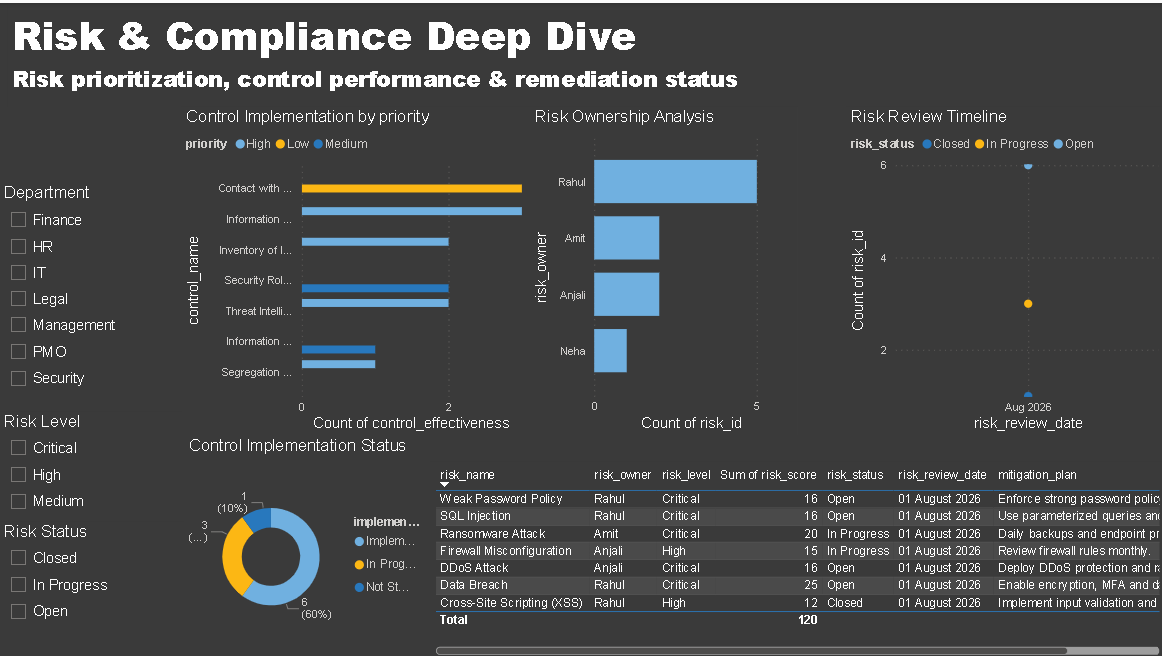

This screenshot's page, from the dashboard's own definition file:
{"tool":"powerbi","page":{"name":"Risk & compliance Deep Dive","canvas":[1280,720],"ordinal":2},"visuals":[{"type":"textbox","box":[9.5,0,1270.7,113.9],"z":0},{"type":"slicer","title":"Department","fields":{"Values":["Dim_Department.department_name"]},"box":[0,197.6,203.1,251.1],"z":1000},{"type":"slicer","title":"Risk Level","fields":{"Values":["Fact_Risk_Register.risk_level"]},"box":[0,448.7,203.1,150.9],"z":2000},{"type":"slicer","title":"Risk Status","fields":{"Values":["Fact_Risk_Register.risk_status"]},"box":[0,569.5,203.1,150.9],"z":3000},{"type":"clusteredBarChart","title":"Risk Ownership Analysis","fields":{"Category":["Fact_Risk_Register.risk_owner"],"Y":["CountNonNull(Fact_Risk_Register.risk_id)"]},"box":[583.2,113.9,293.7,360.9],"z":4000},{"type":"lineChart","title":"Risk Review Timeline","fields":{"Y":["CountNonNull(Fact_Risk_Register.risk_id)"],"Series":["Fact_Risk_Register.risk_status"],"Category":["Fact_Risk_Register.risk_review_date"]},"box":[930.4,113.9,349.9,360.9],"z":5000},{"type":"tableEx","fields":{"Values":["Fact_Risk_Register.risk_name","Fact_Risk_Register.risk_owner","Fact_Risk_Register.risk_level","Sum(Fact_Risk_Register.risk_score)","Fact_Risk_Register.risk_status","Fact_Risk_Register.risk_review_date","Fact_Risk_Register.mitigation_plan"]},"box":[473.4,503.6,806.9,216.8],"z":6000},{"type":"donutChart","title":"Control Implementation Status","fields":{"Category":["Fact_Asset_Control.implementation_status"],"Y":["CountNonNull(Fact_Asset_Control.control_id)"]},"box":[203.1,474.8,270.3,245.6],"z":7000},{"type":"clusteredBarChart","title":"Control Implementation by priority","fields":{"Category":["Dim_Controls.control_name"],"Series":["Dim_Controls.priority"],"Y":["CountNonNull(Fact_Risk_Control.control_effectiveness)"]},"box":[200.3,113.9,382.8,360.9],"z":8000}]}

Visuals, with their boxes in screenshot pixels (x1, y1, x2, y2), scaled from the page's 1280x720 canvas onto the 1162x656 screenshot:
textbox: {"x1": 9, "y1": 0, "x2": 1161, "y2": 104}
"Department" slicer: {"x1": 0, "y1": 180, "x2": 184, "y2": 409}
"Risk Level" slicer: {"x1": 0, "y1": 409, "x2": 184, "y2": 546}
"Risk Status" slicer: {"x1": 0, "y1": 519, "x2": 184, "y2": 655}
"Risk Ownership Analysis" clusteredBarChart: {"x1": 529, "y1": 104, "x2": 796, "y2": 433}
"Risk Review Timeline" lineChart: {"x1": 845, "y1": 104, "x2": 1161, "y2": 433}
tableEx - Fact_Risk_Register.risk_name x Fact_Risk_Register.risk_owner: {"x1": 430, "y1": 459, "x2": 1161, "y2": 655}
"Control Implementation Status" donutChart: {"x1": 184, "y1": 433, "x2": 430, "y2": 655}
"Control Implementation by priority" clusteredBarChart: {"x1": 182, "y1": 104, "x2": 529, "y2": 433}
